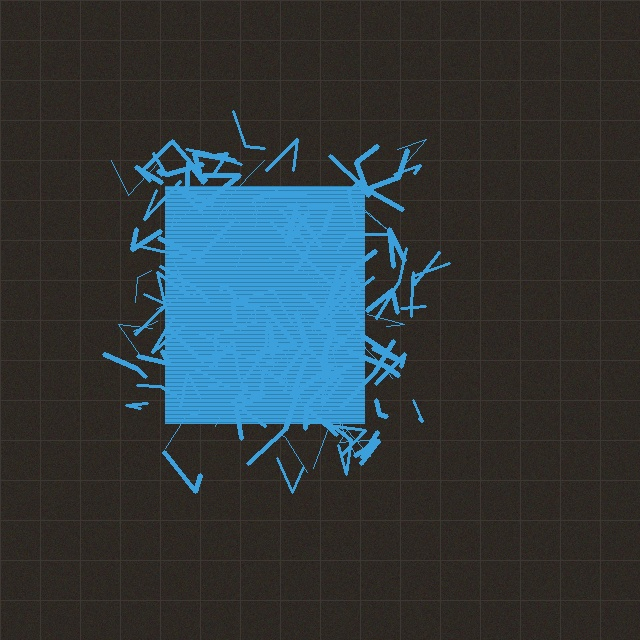spaghetti: (125, 136, 424, 473)
